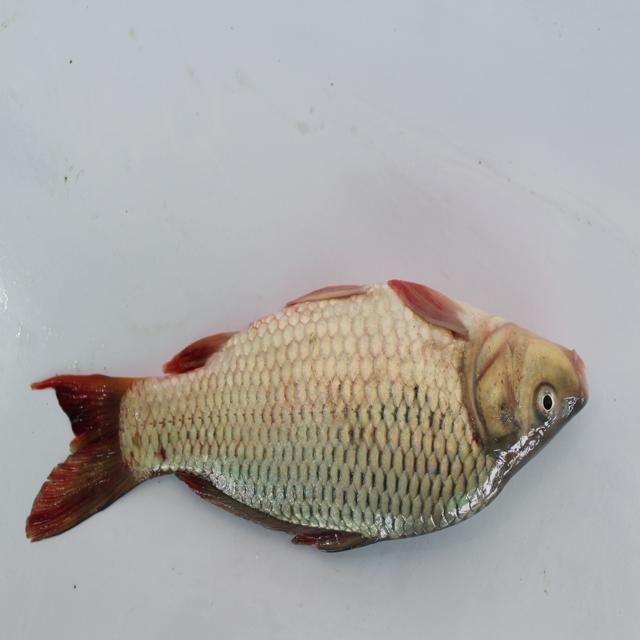CommonCarp: (32, 271, 603, 560)
